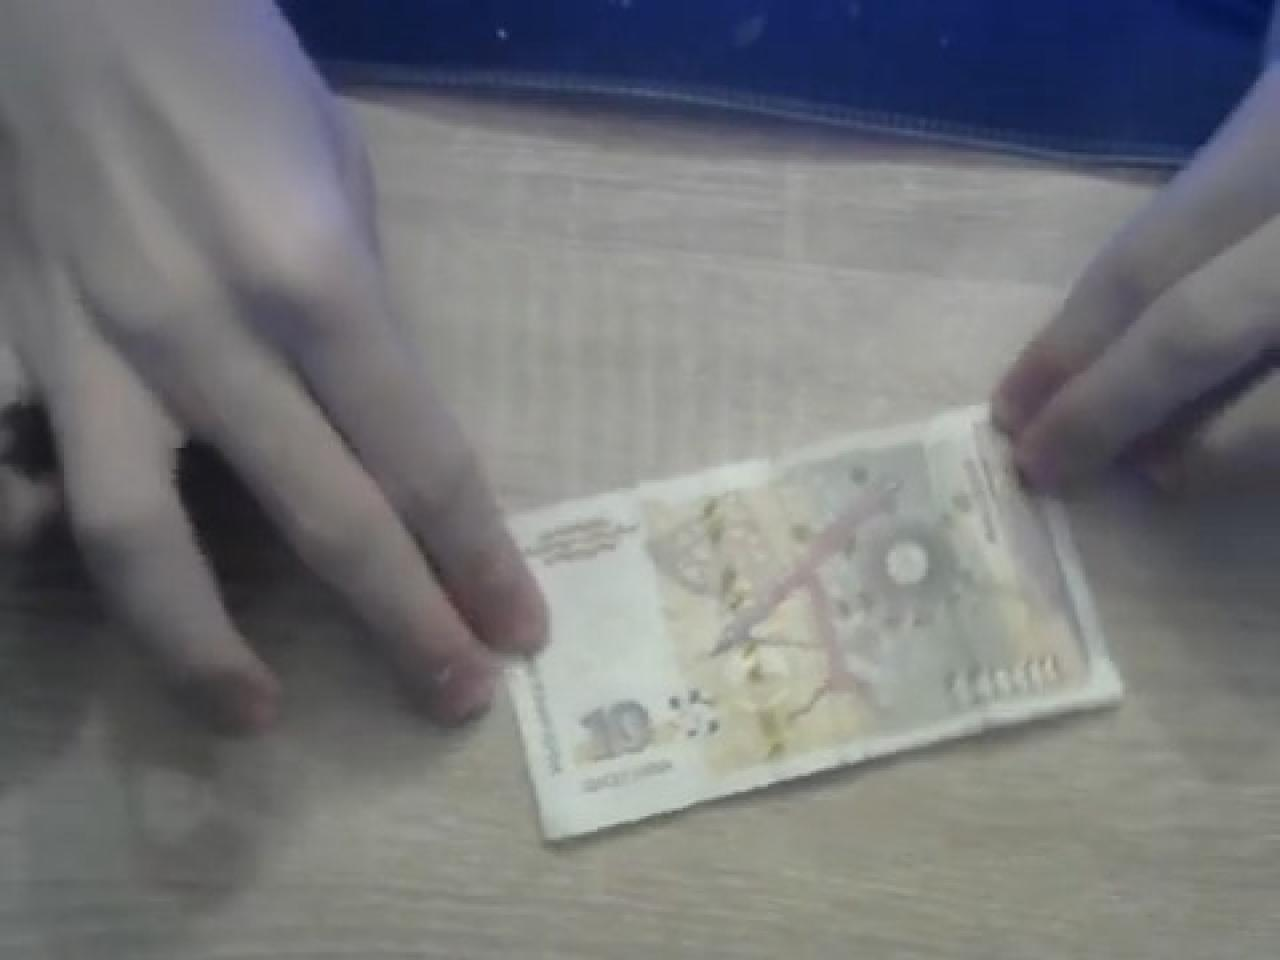10leva: (507, 408, 1126, 851)
